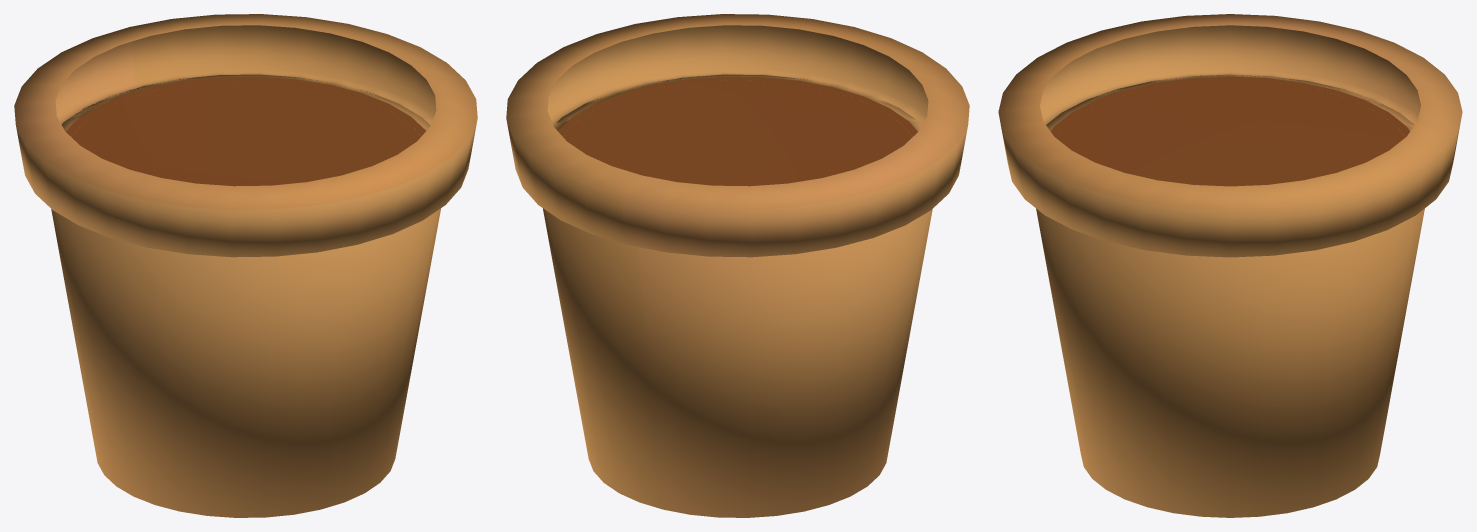
File: FlowerPot.fbx
3 renders of one model, left to right at view 1: azimuth 30°, elevation 25°; view 2: azimuth 150°, elevation 25°; view 3: azimuth 270°, elevation 25°, orthographic.
Parts seen in each view (by area): view 1: Pot, Dirt; view 2: Pot, Dirt; view 3: Pot, Dirt.
Part boxes in pixels (<box>): Pot: <box>14,14,477,517</box>; Dirt: <box>66,76,425,186</box>; Pot: <box>506,14,969,517</box>; Dirt: <box>558,76,917,186</box>; Pot: <box>998,14,1462,517</box>; Dirt: <box>1050,76,1410,186</box>.
Size of the model in its own units: 243 by 202 by 243.
